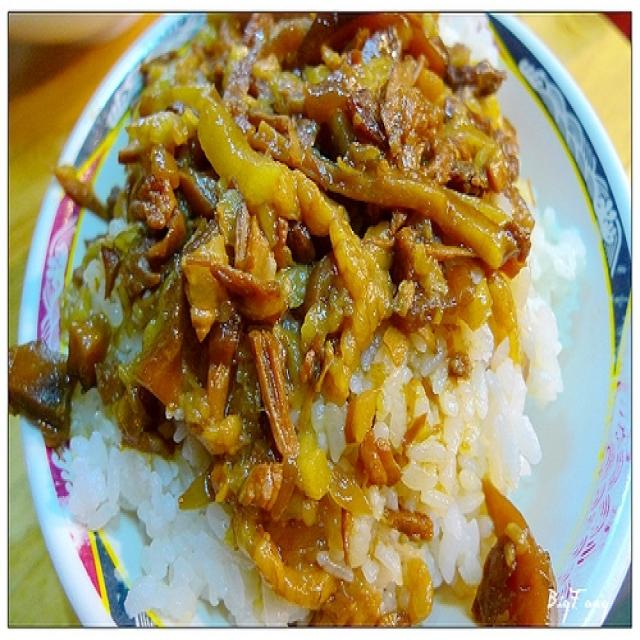猪肉菜式: (16, 17, 624, 631)
